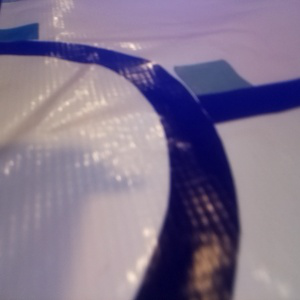top_right: (156, 58, 253, 112), (1, 22, 39, 54)
